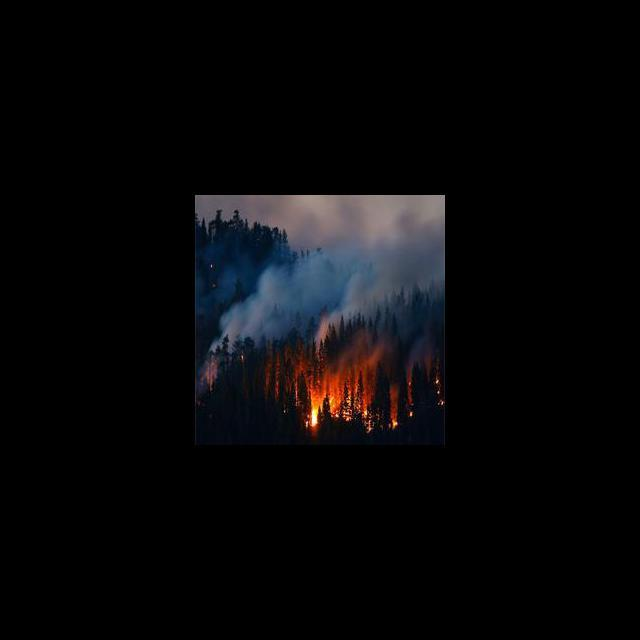Fire: (262, 352, 444, 437)
Smoke: (208, 195, 444, 353)
